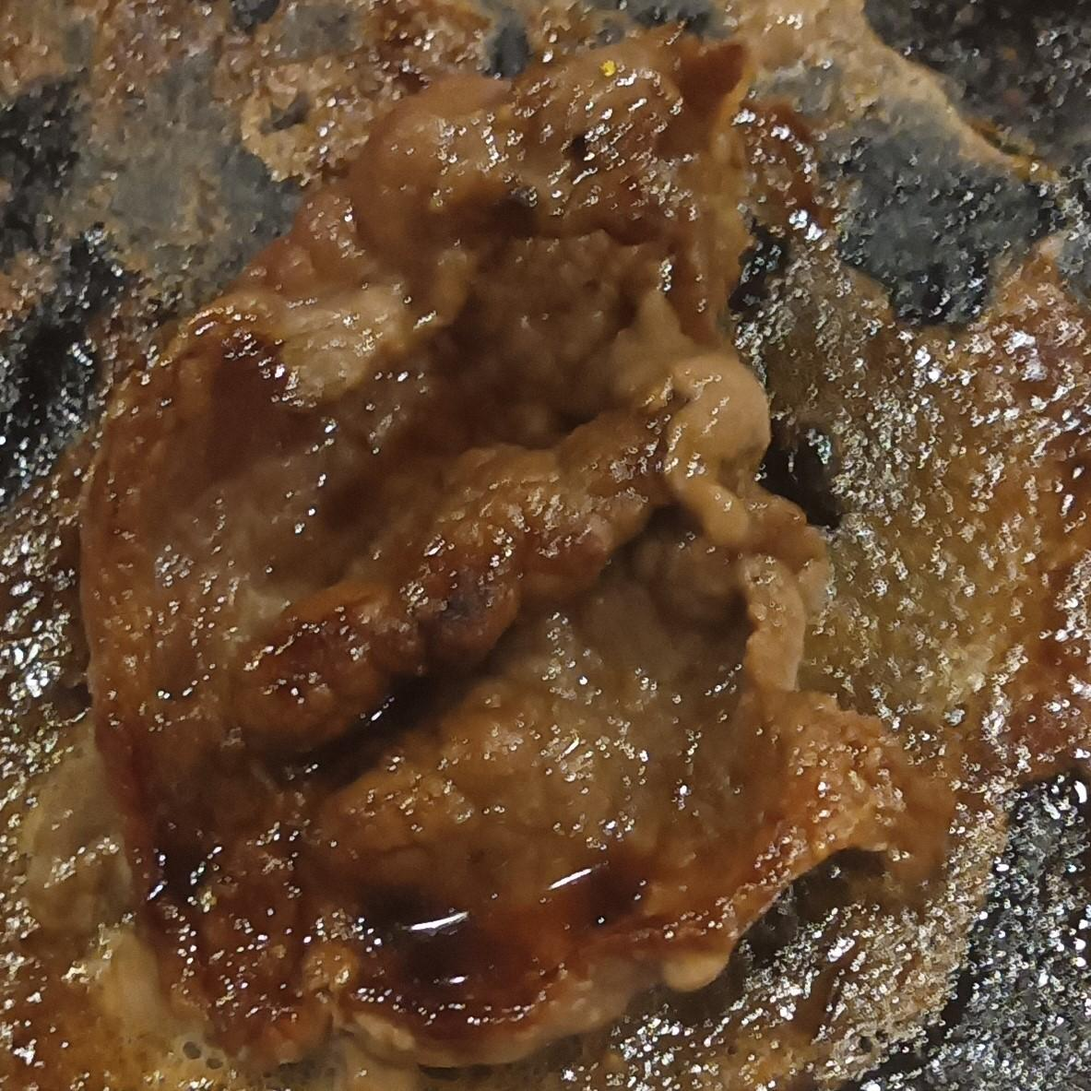Well-Cooked: (88, 28, 943, 1081)
